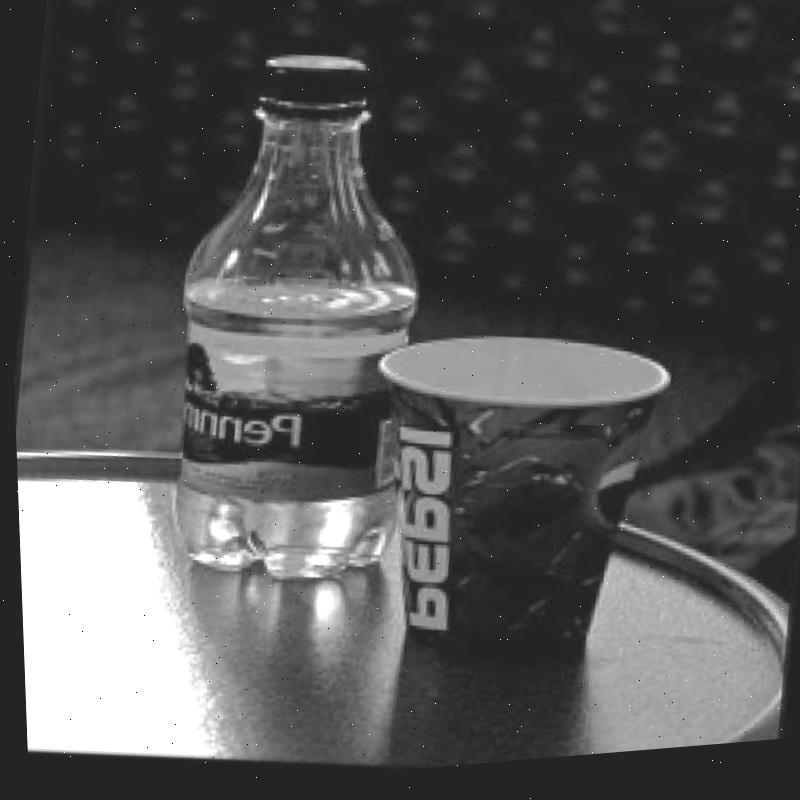botella: (143, 39, 451, 597)
